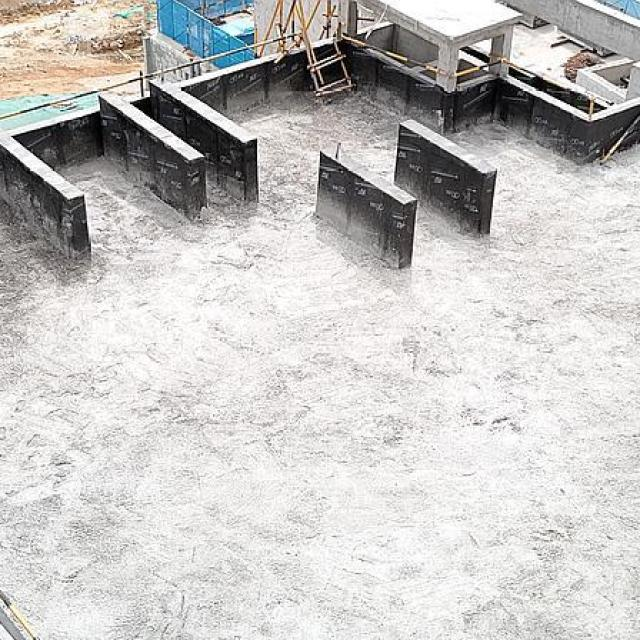edge_guardrail: (0, 32, 303, 122), (340, 34, 594, 121), (598, 114, 640, 167), (193, 0, 228, 17)
